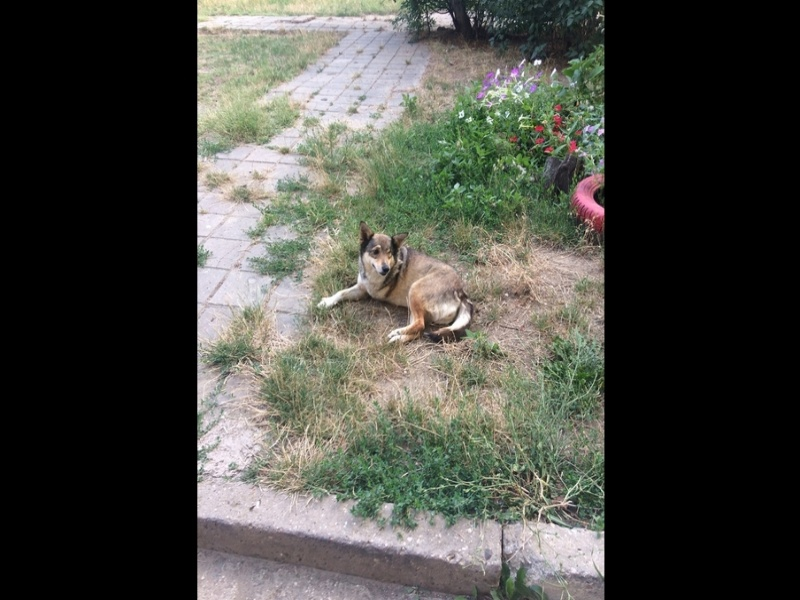dog: (317, 219, 478, 348)
